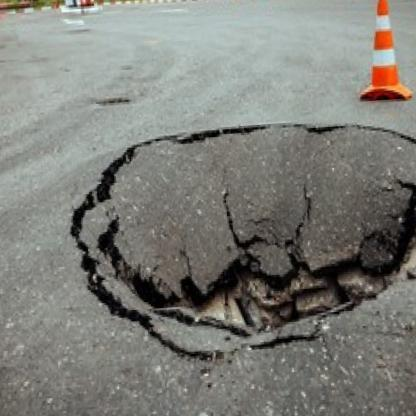pothole: (71, 120, 416, 347), (92, 92, 131, 111)
